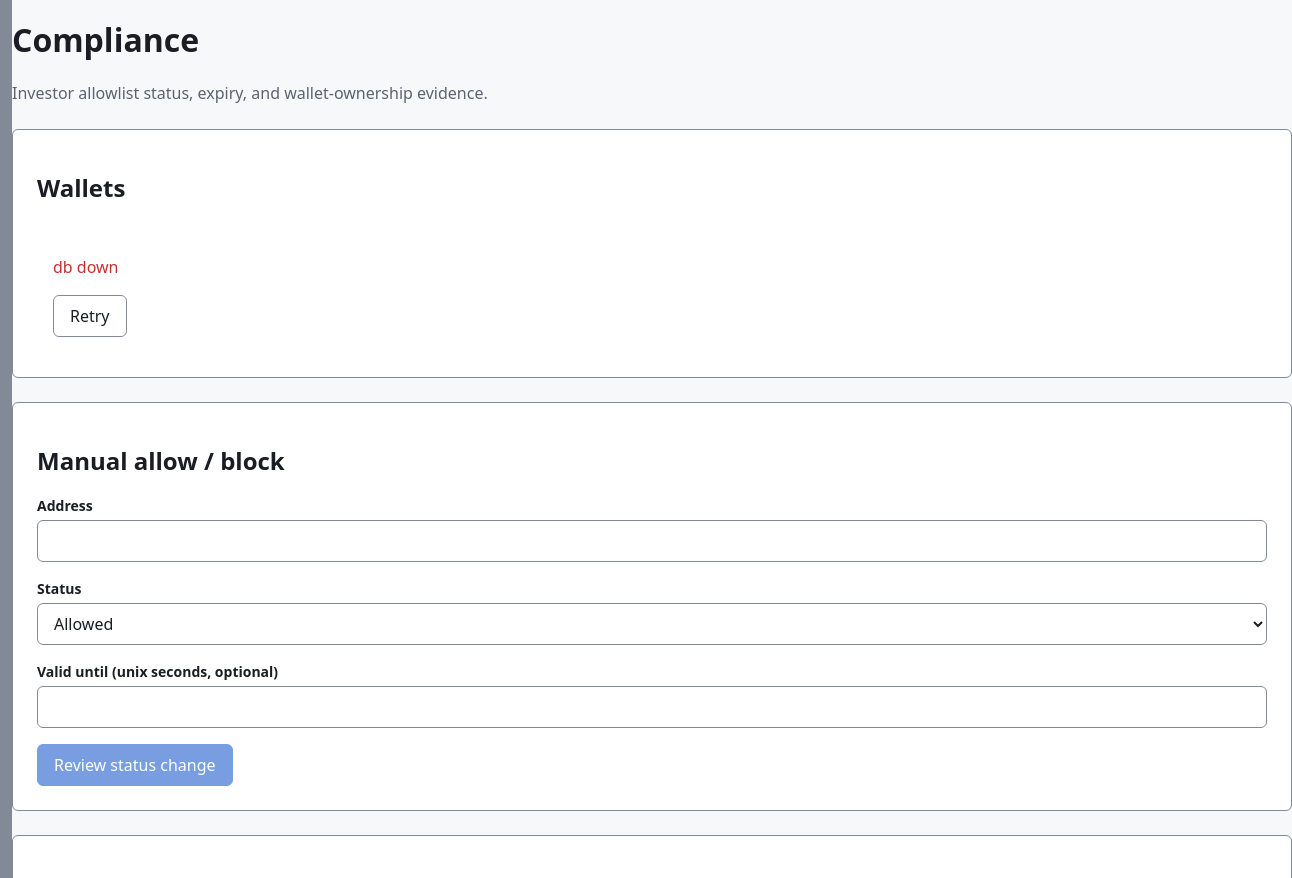
Test: Compliance wallet table › reports a failed wallet load and retries
Expected: the text "db down" is shown, x1=53 y1=256 x2=118 y2=278
Click the button "Retry": (90, 316) x1=53 y1=295 x2=126 y2=337
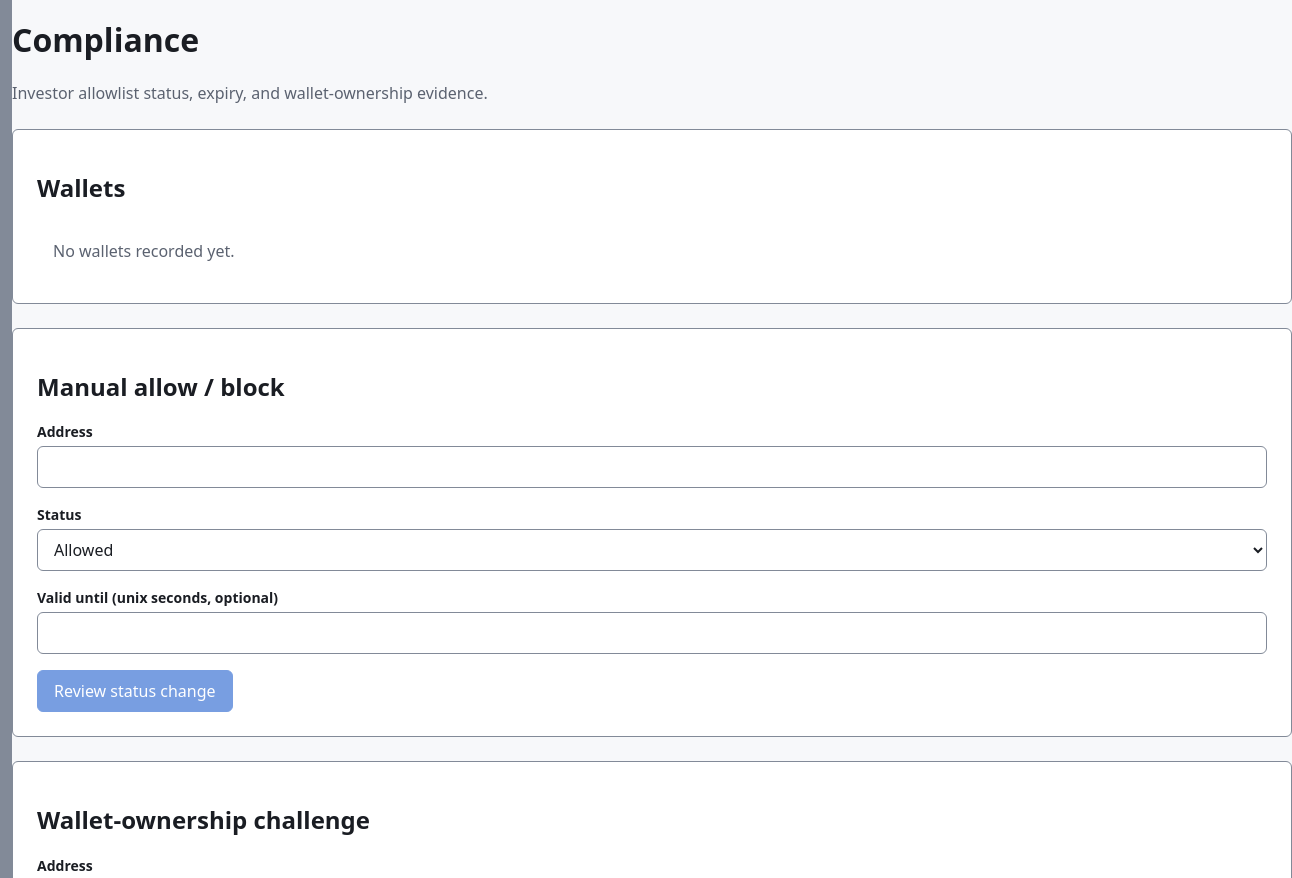
Expected: the text "No wallets recorded yet." is shown, x1=53 y1=240 x2=234 y2=262
